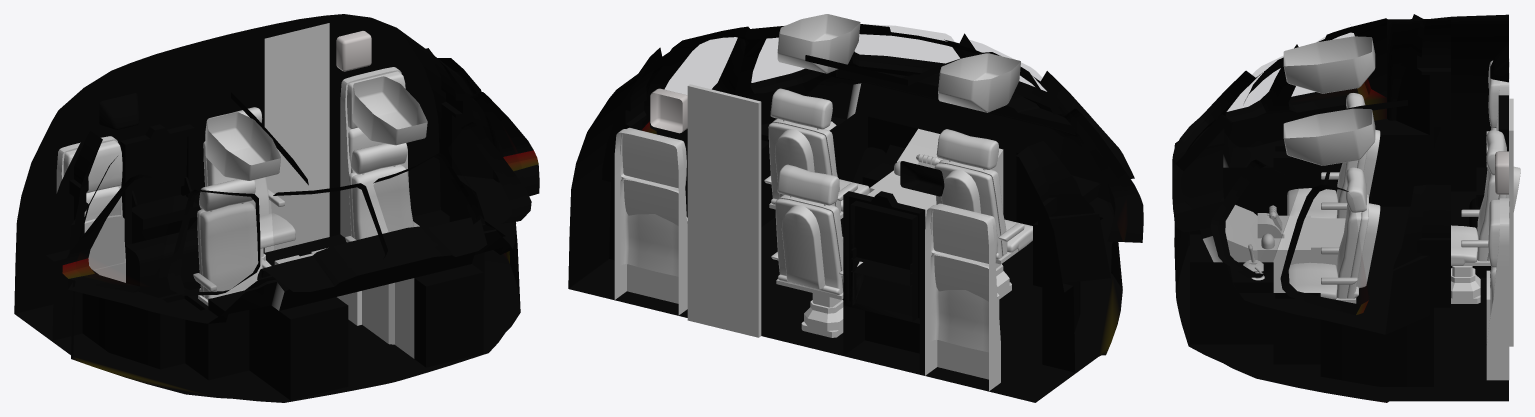
File: Airplane_Cockpit.FBX
The picture shows the model from 3 angles, left to right: view 1: azimuth 30°, elevation 25°; view 2: azimuth 150°, elevation 25°; view 3: azimuth 270°, elevation 25°; orthographic projection. The views are drawn at different scales.
Visible parts, largest first — view 1: Cockpit, Glass_Cockpit, Cockpit_Chair, Cockpit_Floor, Cockpit_door; view 2: Cockpit, Cockpit_Chair, Cockpit_Floor, Cockpit_door, Glass_Cockpit; view 3: Cockpit, Cockpit_Chair, Cockpit_Floor, Glass_Cockpit, Cockpit_door.
Boxes of the visible parts, x1,y1,x2,y2 form: Cockpit: (14,14,539,400); Glass_Cockpit: (76,126,520,293); Cockpit_Chair: (56,67,419,305); Cockpit_Floor: (15,210,520,402); Cockpit_door: (264,23,329,252); Cockpit: (568,14,1143,374); Cockpit_Chair: (614,88,1032,390); Cockpit_Floor: (569,217,1122,402); Cockpit_door: (687,84,761,337); Glass_Cockpit: (665,25,1128,240); Cockpit: (1172,14,1508,386); Cockpit_Chair: (1287,59,1520,380); Cockpit_Floor: (1176,191,1508,402); Glass_Cockpit: (1177,33,1368,274); Cockpit_door: (1509,98,1513,346).
Bounding box in the file's own units: 440 × 201 × 277.
